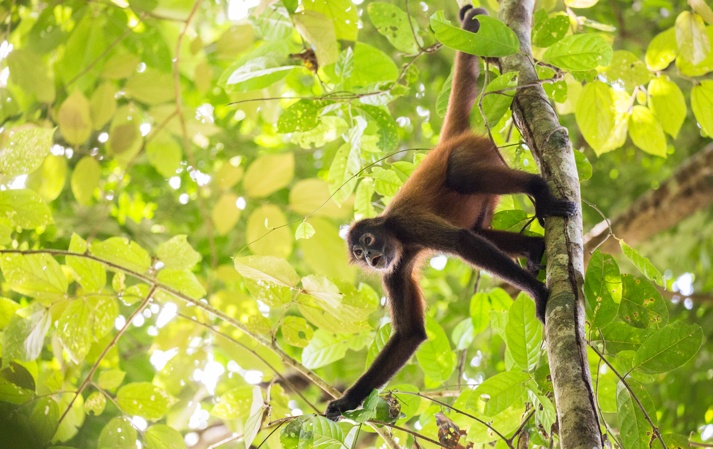monkey: (318, 5, 577, 422)
